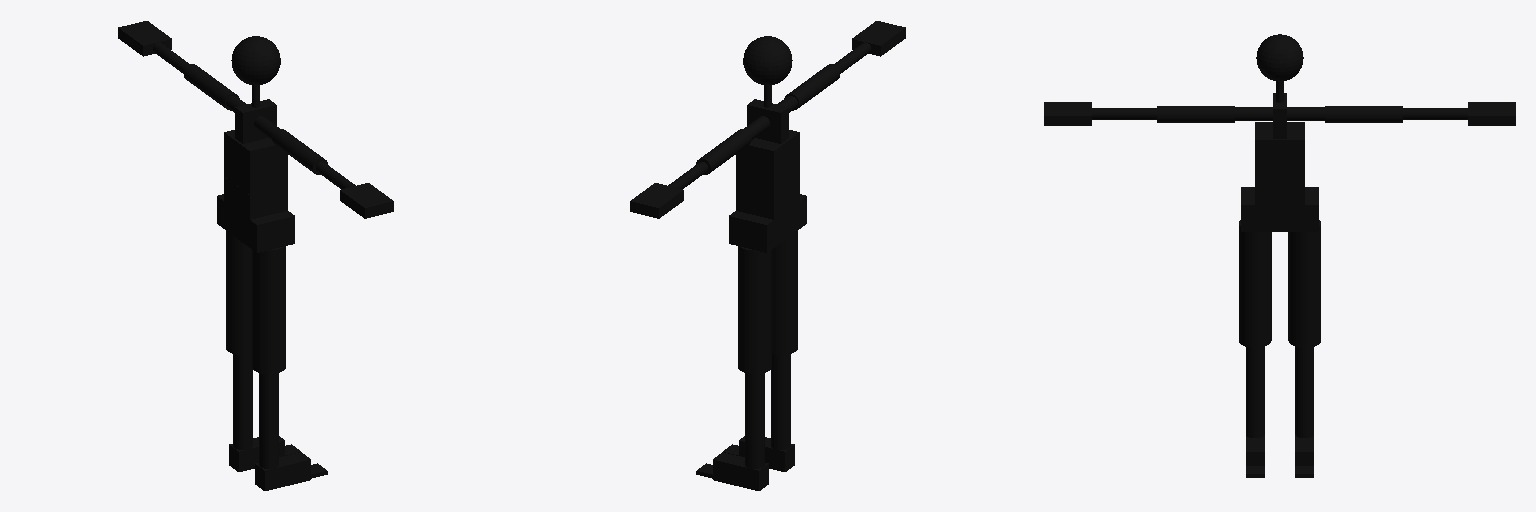
--- What the picture shows (computed from the rendered views, not written in the file) ---
The picture shows the robot from 3 angles, left to right: view 1: azimuth 30°, elevation 25°; view 2: azimuth 150°, elevation 25°; view 3: azimuth 270°, elevation 25°; orthographic projection.
Model XSensStyleModel_template with 51 links and 50 joints (48 revolute, 2 fixed), rooted at Pelvis, posed all joints at 0.
Links seen in each view (by area): view 1: RightUpperLeg, LeftUpperLeg, Pelvis, Head, RightLowerLeg, LeftLowerLeg, T12, L5, RightFoot, L3, RightHand, T8 (+4 smaller); view 2: LeftUpperLeg, RightUpperLeg, Pelvis, Head, LeftLowerLeg, RightLowerLeg, T12, L5, LeftFoot, L3, LeftHand, T8 (+4 smaller); view 3: RightUpperLeg, LeftUpperLeg, Pelvis, Head, T12, RightLowerLeg, LeftLowerLeg, RightUpperArm, LeftUpperArm, RightHand, LeftHand, L5 (+8 smaller).
Boxes of the visible links, x1,y1,x2,y2 form: RightUpperLeg: [252, 246, 285, 373]; LeftUpperLeg: [226, 231, 251, 354]; Pelvis: [217, 194, 294, 252]; Head: [231, 36, 280, 85]; RightLowerLeg: [259, 373, 278, 468]; LeftLowerLeg: [233, 354, 252, 449]; T12: [224, 130, 287, 172]; L5: [224, 177, 287, 219]; RightFoot: [255, 452, 310, 490]; L3: [224, 155, 287, 194]; RightHand: [340, 183, 393, 218]; T8: [235, 99, 276, 143]; LeftUpperLeg: [738, 246, 771, 373]; RightUpperLeg: [772, 231, 797, 354]; Pelvis: [729, 194, 806, 252]; Head: [743, 36, 792, 85]; LeftLowerLeg: [745, 373, 764, 468]; RightLowerLeg: [771, 354, 790, 449]; T12: [736, 130, 799, 172]; L5: [736, 177, 799, 219]; LeftFoot: [713, 452, 768, 490]; L3: [736, 155, 799, 194]; LeftHand: [630, 183, 683, 218]; T8: [747, 99, 788, 143]; RightUpperLeg: [1239, 220, 1271, 347]; LeftUpperLeg: [1288, 220, 1320, 347]; Pelvis: [1241, 187, 1318, 231]; Head: [1256, 34, 1303, 81]; T12: [1255, 122, 1304, 160]; RightLowerLeg: [1246, 347, 1264, 437]; LeftLowerLeg: [1295, 347, 1313, 437]; RightUpperArm: [1157, 106, 1234, 122]; LeftUpperArm: [1325, 106, 1402, 122]; RightHand: [1044, 102, 1091, 125]; LeftHand: [1468, 102, 1515, 125]; L5: [1255, 182, 1304, 204].
Size in the robot's own frame: 0.2981 by 1.7 by 1.67 metres.
Geometry: primitives only (box / cylinder / sphere), no mesh files.

robot.urdf — XSensStyleModel_template:
<!--URDF MODEL 48 DoFs-->

<robot name="XSensStyleModel_template">

<material name="color">
    <color rgba="0.1 0.1 0.1 1"/>
</material>

<!--To open this model with Gazebo replace the null masses, inertias and dimensions of the 'fake links f1 and f2'-->
    <!--LINKS-->
	<!--Link base (1)-->
	<link name="Pelvis">
        <inertial>
            <mass value="4.416"/>
			<!--COM origin wrt pHipOrigin-->
            <origin xyz="0           0    0.054579" rpy="0 0 0" />
            <inertia ixx="0.032646" iyy="0.012663" izz="0.036997" ixy="0" ixz="0" iyz="0"/>
        </inertial>

        <visual>
			<!--box origin wrt pHipOrigin-->
            <origin xyz="0           0    0.054579" rpy="0 0 0" />
            <geometry>
                <box size="0.15204     0.27824     0.10627"/>
            </geometry>
            <material name="color"/>
        </visual>

        <collision>
			<!--box origin wrt pHipOrigin-->
            <origin xyz="0           0    0.054579" rpy="0 0 0" />
            <geometry>
                <box size="0.15204     0.27824     0.10627"/>
            </geometry>
        </collision>

    </link>
    <!--Chain from (2) to (7)-->
	<link name="L5_f1">
        <inertial>
            <mass value="0"/>
            <origin xyz="0 0 0" rpy="0 0 0" />
            <inertia ixx="0" iyy="0" izz="0" ixy="0" ixz="0" iyz="0"/>
        </inertial>
    </link>
	<link name="L5">
        <inertial>
            <mass value="5.6304"/>
			<!--COM origin wrt jL5S1-->
            <origin xyz="0           0    0.046545" rpy="0 0 0" />
            <inertia ixx="0.019207" iyy="0.014912" izz="0.025988" ixy="0" ixz="0" iyz="0"/>
        </inertial>

        <visual>
			<!--box origin origin wrt jL5S1-->
            <origin xyz="0           0    0.046545" rpy="0 0 0" />
            <geometry>
                <box size="0.15204     0.17964     0.09309"/>
            </geometry>
            <material name="color"/>
        </visual>

        <collision>
			<!--box origin origin wrt jL5S1-->
            <origin xyz="0           0    0.046545" rpy="0 0 0" />
            <geometry>
                <box size="0.15204     0.17964     0.09309"/>
            </geometry>
        </collision>
    </link>
	<link name="L3_f1">
        <inertial>
            <mass value="0"/>
            <origin xyz="0 0 0" rpy="0 0 0" />
            <inertia ixx="0" iyy="0" izz="0" ixy="0" ixz="0" iyz="0"/>
        </inertial>
    </link>
	<link name="L3">
        <inertial>
            <mass value="5.6304"/>
			<!--COM origin wrt jL4L3-->
            <origin xyz="0           0    0.042046" rpy="0 0 0" />
            <inertia ixx="0.018459" iyy="0.014164" izz="0.025988" ixy="0" ixz="0" iyz="0"/>
        </inertial>

        <visual>
			<!--box origin origin wrt jL4L3-->
            <origin xyz="0           0    0.042046" rpy="0 0 0" />
            <geometry>
                <box size="0.15204     0.17964    0.084092"/>
            </geometry>
            <material name="color"/>
        </visual>

        <collision>
			<!--box origin origin wrt jL4L3-->
            <origin xyz="0           0    0.042046" rpy="0 0 0" />
            <geometry>
                <box size="0.15204     0.17964    0.084092"/>
            </geometry>
        </collision>
    </link>
	<link name="T12_f1">
        <inertial>
            <mass value="0"/>
            <origin xyz="0 0 0" rpy="0 0 0" />
            <inertia ixx="0" iyy="0" izz="0" ixy="0" ixz="0" iyz="0"/>
        </inertial>
    </link>
	<link name="T12">
        <inertial>
            <mass value="5.6304"/>
			<!--COM origin wrt jL1T12-->
            <origin xyz="0           0    0.042046" rpy="0 0 0" />
            <inertia ixx="0.018459" iyy="0.014164" izz="0.025988" ixy="0" ixz="0" iyz="0"/>
        </inertial>

        <visual>
			<!--box origin origin wrt jL1T12-->
            <origin xyz="0           0    0.042046" rpy="0 0 0" />
            <geometry>
                <box size="0.15204     0.17964    0.084092"/>
            </geometry>
            <material name="color"/>
        </visual>

        <collision>
			<!--box origin origin wrt jL1T12-->
            <origin xyz="0           0    0.042046" rpy="0 0 0" />
            <geometry>
                <box size="0.15204     0.17964    0.084092"/>
            </geometry>
        </collision>
    </link>
	<link name="T8_f1">
        <inertial>
            <mass value="0"/>
            <origin xyz="0 0 0" rpy="0 0 0" />
            <inertia ixx="0" iyy="0" izz="0" ixy="0" ixz="0" iyz="0"/>
        </inertial>
    </link>
	<link name="T8_f2">
        <inertial>
            <mass value="0"/>
            <origin xyz="0 0 0" rpy="0 0 0" />
            <inertia ixx="0" iyy="0" izz="0" ixy="0" ixz="0" iyz="0"/>
        </inertial>
    </link>
	<link name="T8">
        <inertial>
            <mass value="2.208"/>
			<!--COM origin wrt jT9T8-->
            <origin xyz="0           0    0.059077" rpy="0 0 0" />
            <inertia ixx="0.0031087" iyy="0.0059088" izz="0.00388" ixy="0" ixz="0" iyz="0"/>
        </inertial>

        <visual>
			<!--box origin wrt jT9T8-->
            <origin xyz="0           0    0.059077" rpy="0 0 0" />
            <geometry>
                <box size="0.13473    0.054172     0.11815"/>
            </geometry>
            <material name="color"/>
        </visual>

        <collision>
			<!--box origin wrt jT9T8-->
            <origin xyz="0           0    0.059077" rpy="0 0 0" />
            <geometry>
                <box size="0.13473    0.054172     0.11815"/>
            </geometry>
        </collision>

    </link>
	<link name="Neck_f1">
        <inertial>
            <mass value="0"/>
            <origin xyz="0 0 0" rpy="0 0 0" />
            <inertia ixx="0" iyy="0" izz="0" ixy="0" ixz="0" iyz="0"/>
        </inertial>
    </link>
	<link name="Neck_f2">
        <inertial>
            <mass value="0"/>
            <origin xyz="0 0 0" rpy="0 0 0" />
            <inertia ixx="0" iyy="0" izz="0" ixy="0" ixz="0" iyz="0"/>
        </inertial>
    </link>
	<link name="Neck">
        <inertial>
            <mass value="0.6624"/>
			<!--COM origin wrt jT1C7-->
            <origin xyz="0           0    0.043276" rpy="0 0 0" />
            <inertia ixx="0.00054354" iyy="0.00054354" izz="0.00026007" ixy="0" ixz="0" iyz="0"/>
        </inertial>

        <visual>
			<!--box origin wrt jT1C7-->
            <origin xyz="0           0    0.043276" rpy="0 0 0" />
            <geometry>
		<cylinder length="0.086551" radius="0.014011"/>
            </geometry>
            <material name="color"/>
        </visual>

        <collision>
			<!--box origin wrt jT1C7-->
            <origin xyz="0           0    0.043276" rpy="0 0 0" />
            <geometry>
                <cylinder length="0.086551" radius="0.014011"/>
            </geometry>
        </collision>
    </link>
	<link name="Head_f1">
        <inertial>
            <mass value="0"/>
            <origin xyz="0 0 0" rpy="0 0 0" />
            <inertia ixx="0" iyy="0" izz="0" ixy="0" ixz="0" iyz="0"/>
        </inertial>
    </link>
	<link name="Head">
        <inertial>
            <mass value="1.9872"/>
			<!--COM origin wrt jC1Head-->
            <origin xyz="0           0    0.085351" rpy="0 0 0" />
            <inertia ixx="0.0057906" iyy="0.0057906" izz="0.0057906" ixy="0" ixz="0" iyz="0"/>
        </inertial>

        <visual>
			<!--boc origin wrt jC1Head-->
            <origin xyz="0           0    0.085351" rpy="0 0 0" />
            <geometry>
                <sphere radius="0.085351"/>
            </geometry>
            <material name="color"/>
        </visual>

        <collision>
			<!--box origin wrt jC1Head-->
            <origin xyz="0           0    0.085351" rpy="0 0 0" />
            <geometry>
                <sphere radius="0.085351"/>
            </geometry>
        </collision>

    </link>
	<!--Chain from (8) to (11)-->
	<link name="RightShoulder">
        <inertial>
            <mass value="1.7112"/>
			<!--COM origin wrt jRightC7Shoulder-->
            <origin xyz="0   -0.068449           0" rpy="0 0 0" />
            <inertia ixx="0.0029297" iyy="0.00051445" izz="0.0029297" ixy="0" ixz="0" iyz="0"/>
        </inertial>

        <visual>
			<!--box origin wrt jRightC7Shoulder. RPY rotated of pi/2.-->
            <origin xyz="0   -0.068449           0" rpy="1.5708 0 0" />
            <geometry>
                <cylinder length="0.1369" radius="0.024521"/>
            </geometry>
            <material name="color"/>
        </visual>

        <collision>
			<!--box origin wrt jRightC7Shoulder. RPY rotated of pi/2.-->
            <origin xyz="0   -0.068449           0" rpy="1.5708 0 0" />
            <geometry>
                <cylinder length="0.1369" radius="0.024521"/>
            </geometry>
        </collision>

    </link>
	<link name="RightUpperArm_f1">
        <inertial>
            <mass value="0"/>
            <origin xyz="0 0 0" rpy="0 0 0" />
            <inertia ixx="0" iyy="0" izz="0" ixy="0" ixz="0" iyz="0"/>
        </inertial>
    </link>
	<link name="RightUpperArm_f2">
        <inertial>
            <mass value="0"/>
            <origin xyz="0 0 0" rpy="0 0 0" />
            <inertia ixx="0" iyy="0" izz="0" ixy="0" ixz="0" iyz="0"/>
        </inertial>
    </link>
    <link name="RightUpperArm">
        <inertial>
            <mass value="1.656"/>
			<!--COM origin wrt jRightShoulder-->
            <origin xyz="0    -0.14097           0" rpy="0 0 0" />
            <inertia ixx="0.011359" iyy="0.00077855" izz="0.011359" ixy="0" ixz="0" iyz="0"/>
        </inertial>

        <visual>
			<!--box origin wrt jRightShoulder. RPY rotated of pi/2.-->
            <origin xyz="0    -0.14097           0" rpy="1.5708 0 0" />
            <geometry>
                <cylinder length="0.28194" radius="0.030664"/>
            </geometry>
            <material name="color"/>
        </visual>

        <collision>
			<!--box origin wrt jRightShoulder. RPY rotated of pi/2.-->
            <origin xyz="0    -0.14097           0" rpy="1.5708 0 0" />
            <geometry>
                <cylinder length="0.28194" radius="0.030664"/>
            </geometry>
        </collision>

    </link>
	<link name="RightForeArm_f1">
        <inertial>
            <mass value="0"/>
            <origin xyz="0 0 0" rpy="0 0 0" />
            <inertia ixx="0" iyy="0" izz="0" ixy="0" ixz="0" iyz="0"/>
        </inertial>
    </link>
	<link name="RightForeArm">
        <inertial>
            <mass value="1.104"/>
			<!--COM origin wrt jRightElbow-->
            <origin xyz="0    -0.11576           0" rpy="0 0 0" />
            <inertia ixx="0.0050467" iyy="0.00023068" izz="0.0050467" ixy="0" ixz="0" iyz="0"/>
        </inertial>

        <visual>
			<!--box origin wrt jRightElbow. RPY rotated of pi/2.-->
            <origin xyz="0    -0.11576           0" rpy="1.5708 0 0" />
            <geometry>
                <cylinder length="0.23152" radius="0.020443"/>
            </geometry>
            <material name="color"/>
        </visual>

        <collision>
			<!--box origin wrt jRightElbow. RPY rotated of pi/2.-->
            <origin xyz="0    -0.11576           0" rpy="1.5708 0 0" />
            <geometry>
                <cylinder length="0.23152" radius="0.020443"/>
            </geometry>
        </collision>

    </link>
	<link name="RightHand_f1">
        <inertial>
            <mass value="0"/>
            <origin xyz="0 0 0" rpy="0 0 0" />
            <inertia ixx="0" iyy="0" izz="0" ixy="0" ixz="0" iyz="0"/>
        </inertial>
    </link>
	<link name="RightHand">
        <inertial>
            <mass value="0.3312"/>
			<!--COM origin wrt jRightWrist-->
            <origin xyz="0   -0.086727           0" rpy="0 0 0" />
            <inertia ixx="0.00087653" iyy="0.0004152" izz="0.0011995" ixy="0" ixz="0" iyz="0"/>
        </inertial>

        <visual>
			<!--box origin wrt jRightWrist-->
            <origin xyz="0   -0.086727           0" rpy="0 0 0" />
            <geometry>
                <box size="0.11564     0.17345    0.040885"/>
            </geometry>
            <material name="color"/>
        </visual>

        <collision>
			<!--box origin wrt jRightWrist-->
            <origin xyz="0   -0.086727           0" rpy="0 0 0" />
            <geometry>
                <box size="0.11564     0.17345    0.040885"/>
            </geometry>
        </collision>

    </link>
    <link name="RightHandCOM">
        <inertial>
            <mass value="0.00001"/>
            <origin xyz="0 0 0" rpy="0 0 0" />
            <inertia ixx="0" iyy="0" izz="0" ixy="0" ixz="0" iyz="0"/>
        </inertial>
        <visual>
            <!--box origin wrt jRightWrist-->
            <origin xyz="0   0           0" rpy="0 0 0" />
            <geometry>
                <box size="0     0    0"/>
            </geometry>
            <material name="color"/>
        </visual>
    </link>
	<!--Chain from (12) to (15)-->
	<link name="LeftShoulder">
        <inertial>
            <mass value="1.7112"/>
			<!--COM origin wrt jLeftC7Shoulder-->
            <origin xyz="0    0.068449           0" rpy="0 0 0" />
            <inertia ixx="0.0029297" iyy="0.00051445" izz="0.0029297" ixy="0" ixz="0" iyz="0"/>
        </inertial>

        <visual>
			<!--box origin wrt jLeftC7Shoulder. RPY rotated of pi/2.-->
            <origin xyz="0    0.068449           0" rpy="1.5708 0 0" />
            <geometry>
                <cylinder length="0.1369" radius="0.024521"/>
            </geometry>
            <material name="color"/>
        </visual>

        <collision>
			<!--box origin wrt jLeftC7Shoulder. RPY rotated of pi/2.-->
            <origin xyz="0    0.068449           0" rpy="1.5708 0 0" />
            <geometry>
                <cylinder length="0.1369" radius="0.024521"/>
            </geometry>
        </collision>

    </link>
	<link name="LeftUpperArm_f1">
        <inertial>
            <mass value="0"/>
            <origin xyz="0 0 0" rpy="0 0 0" />
            <inertia ixx="0" iyy="0" izz="0" ixy="0" ixz="0" iyz="0"/>
        </inertial>
    </link>
	<link name="LeftUpperArm_f2">
        <inertial>
            <mass value="0"/>
            <origin xyz="0 0 0" rpy="0 0 0" />
            <inertia ixx="0" iyy="0" izz="0" ixy="0" ixz="0" iyz="0"/>
        </inertial>
    </link>
	<link name="LeftUpperArm">
        <inertial>
            <mass value="1.656"/>
			<!--COM origin wrt jLeftShoulder-->
            <origin xyz="0     0.14097           0" rpy="0 0 0" />
            <inertia ixx="0.011359" iyy="0.00077855" izz="0.011359" ixy="0" ixz="0" iyz="0"/>
        </inertial>

        <visual>
			<!--box origin wrt jLeftShoulder. RPY rotated of pi/2.-->
            <origin xyz="0     0.14097           0" rpy="1.5708 0 0" />
            <geometry>
                <cylinder length="0.28194" radius="0.030664"/>
            </geometry>
            <material name="color"/>
        </visual>

        <collision>
			<!--box origin wrt jLeftShoulder. RPY rotated of pi/2.-->
            <origin xyz="0     0.14097           0" rpy="1.5708 0 0" />
            <geometry>
                <cylinder length="0.28194" radius="0.030664"/>
            </geometry>
        </collision>

    </link>
	<link name="LeftForeArm_f1">
        <inertial>
            <mass value="0"/>
            <origin xyz="0 0 0" rpy="0 0 0" />
            <inertia ixx="0" iyy="0" izz="0" ixy="0" ixz="0" iyz="0"/>
        </inertial>
    </link>
	<link name="LeftForeArm">
        <inertial>
            <mass value="1.104"/>
			<!--COM origin wrt jLeftElbow-->
            <origin xyz="0     0.11576           0" rpy="0 0 0" />
            <inertia ixx="0.0050467" iyy="0.00023068" izz="0.0050467" ixy="0" ixz="0" iyz="0"/>
        </inertial>

        <visual>
			<!--box origin wrt jLeftElbow. RPY rotated of pi/2.-->
            <origin xyz="0     0.11576           0" rpy="1.5708 0 0" />
            <geometry>
                <cylinder length="0.23152" radius="0.020443"/>
            </geometry>
            <material name="color"/>
        </visual>

        <collision>
			<!--box origin wrt jLeftElbow. RPY rotated of pi/2.-->
            <origin xyz="0     0.11576           0" rpy="1.5708 0 0" />
            <geometry>
                <cylinder length="0.23152" radius="0.020443"/>
            </geometry>
        </collision>

    </link>
	<link name="LeftHand_f1">
        <inertial>
            <mass value="0"/>
            <origin xyz="0 0 0" rpy="0 0 0" />
            <inertia ixx="0" iyy="0" izz="0" ixy="0" ixz="0" iyz="0"/>
        </inertial>
    </link>
	<link name="LeftHand">
        <inertial>
            <mass value="0.3312"/>
			<!--COM origin wrt jLeftWrist-->
            <origin xyz="0    0.086727           0" rpy="0 0 0" />
            <inertia ixx="0.00087653" iyy="0.0004152" izz="0.0011995" ixy="0" ixz="0" iyz="0"/>
        </inertial>

        <visual>
			<!--COM origin wrt jLeftWrist-->
            <origin xyz="0    0.086727           0" rpy="0 0 0" />
            <geometry>
                <box size="0.11564     0.17345    0.040885"/>
            </geometry>
            <material name="color"/>
        </visual>

        <collision>
			<!--COM origin wrt jLeftWrist-->
            <origin xyz="0    0.086727           0" rpy="0 0 0" />
            <geometry>
                <box size="0.11564     0.17345    0.040885"/>
            </geometry>
        </collision>

    </link>
    <link name="LeftHandCOM">
        <inertial>
            <mass value="0.00001"/>
            <origin xyz="0 0 0" rpy="0 0 0" />
            <inertia ixx="0" iyy="0" izz="0" ixy="0" ixz="0" iyz="0"/>
        </inertial>
        <visual>
            <!--COM origin wrt jLeftWrist-->
            <origin xyz="0    0           0" rpy="0 0 0" />
            <geometry>
                <box size="0     0    0"/>
            </geometry>
            <material name="color"/>
        </visual>
    </link>
	<!--Chain from (16) to (19)-->
	<link name="RightUpperLeg_f1">
        <inertial>
            <mass value="0"/>
            <origin xyz="0 0 0" rpy="0 0 0" />
            <inertia ixx="0" iyy="0" izz="0" ixy="0" ixz="0" iyz="0"/>
        </inertial>
    </link>
	<link name="RightUpperLeg_f2">
        <inertial>
            <mass value="0"/>
            <origin xyz="0 0 0" rpy="0 0 0" />
            <inertia ixx="0" iyy="0" izz="0" ixy="0" ixz="0" iyz="0"/>
        </inertial>
    </link>
    <link name="RightUpperLeg">
        <inertial>
            <mass value="6.9"/>
			<!--COM origin wrt jRightHip-->
            <origin xyz="0           0    -0.23539" rpy="0 0 0" />
            <inertia ixx="0.13349" iyy="0.13349" izz="0.012102" ixy="0" ixz="0" iyz="0"/>
        </inertial>

        <visual>
			<!--box origin wrt jRightHip-->
            <origin xyz="0           0    -0.23539" rpy="0 0 0" />
            <geometry>
                <cylinder length="0.47078" radius="0.059228"/>
            </geometry>
            <material name="color"/>
        </visual>

        <collision>
			<!--box origin wrt jRightHip-->
            <origin xyz="0           0    -0.23539" rpy="0 0 0" />
            <geometry>
                <cylinder length="0.47078" radius="0.059228"/>
            </geometry>
        </collision>

    </link>
	<link name="RightLowerLeg_f1">
        <inertial>
            <mass value="0"/>
            <origin xyz="0 0 0" rpy="0 0 0" />
            <inertia ixx="0" iyy="0" izz="0" ixy="0" ixz="0" iyz="0"/>
        </inertial>
    </link>
    <link name="RightLowerLeg">
        <inertial>
            <mass value="2.0148"/>
			<!--COM origin wrt jRightKnee-->
            <origin xyz="0           0    -0.18629" rpy="0 0 0" />
            <inertia ixx="0.023906" iyy="0.023906" izz="0.0012007" ixy="0" ixz="0" iyz="0"/>
        </inertial>

        <visual>
			<!--box origin wrt jRightKnee-->
            <origin xyz="0           0    -0.18629" rpy="0 0 0" />
            <geometry>
                <cylinder length="0.37257" radius="0.034524"/>
            </geometry>
            <material name="color"/>
        </visual>

        <collision>
			<!--box origin wrt jRightKnee-->
            <origin xyz="0           0    -0.18629" rpy="0 0 0" />
            <geometry>
                <cylinder length="0.37257" radius="0.034524"/>
            </geometry>
        </collision>

    </link>
	<link name="RightFoot_f1">
        <inertial>
            <mass value="0"/>
            <origin xyz="0 0 0" rpy="0 0 0" />
            <inertia ixx="0" iyy="0" izz="0" ixy="0" ixz="0" iyz="0"/>
        </inertial>
    </link>
	<link name="RightFoot_f2">
        <inertial>
            <mass value="0"/>
            <origin xyz="0 0 0" rpy="0 0 0" />
            <inertia ixx="0" iyy="0" izz="0" ixy="0" ixz="0" iyz="0"/>
        </inertial>
    </link>
    <link name="RightFoot">
        <inertial>
            <mass value="0.7176"/>
			<!--COM origin wrt jRightAnkle-->
            <origin xyz="0.055949           0   -0.039369" rpy="0 0 0" />
            <inertia ixx="0.00065584" iyy="0.0024234" izz="0.0023377" ixy="0" ixz="0" iyz="0"/>
        </inertial>

        <visual>
			<!--box origin wrt jRightAnkle-->
	    	<origin xyz="0.055949           0   -0.039369" rpy="0 0 0" />
            <geometry>
                <box size="0.18527    0.069048    0.078737"/>
            </geometry>
            <material name="color"/>
        </visual>

        <collision>
			<!--box origin wrt jRightAnkle-->
		    <origin xyz="0.055949           0   -0.039369" rpy="0 0 0" />
	            <geometry>
	                <box size="0.18527    0.069048    0.078737"/>
	            </geometry>
        </collision>

    </link>
    <link name="RightToe">
        <inertial>
            <mass value="0.0828"/>
			<!--COM origin wrt jRightBallFoot-->
            <origin xyz="0.032364           0           0" rpy="0 0 0" />
            <inertia ixx="3.4446e-05" iyy="3.046e-05" izz="6.1807e-05" ixy="0" ixz="0" iyz="0"/>
        </inertial>

        <visual>
			<!--box origin wrt jRightBallFoot-->
            <origin xyz="0.032364           0           0" rpy="0 0 0" />
            <geometry>
                <box size="0.064729    0.069048    0.014986"/>
            </geometry>
            <material name="color"/>
        </visual>

        <collision>
			<!--box origin wrt jRightBallFoot-->
            <origin xyz="0.032364           0           0" rpy="0 0 0" />
            <geometry>
                <box size="0.064729    0.069048    0.014986"/>
            </geometry>
        </collision>
    </link>
	<!--Chain from (20) to (23)-->
	<link name="LeftUpperLeg_f1">
        <inertial>
            <mass value="0"/>
            <origin xyz="0 0 0" rpy="0 0 0" />
            <inertia ixx="0" iyy="0" izz="0" ixy="0" ixz="0" iyz="0"/>
        </inertial>
    </link>
	<link name="LeftUpperLeg_f2">
        <inertial>
            <mass value="0"/>
            <origin xyz="0 0 0" rpy="0 0 0" />
            <inertia ixx="0" iyy="0" izz="0" ixy="0" ixz="0" iyz="0"/>
        </inertial>
    </link>
    <link name="LeftUpperLeg">
        <inertial>
            <mass value="6.9"/>
			<!--COM origin wrt jLeftHip-->
            <origin xyz="0           0    -0.23539" rpy="0 0 0" />
            <inertia ixx="0.13349" iyy="0.13349" izz="0.012102" ixy="0" ixz="0" iyz="0"/>
        </inertial>

        <visual>
			<!--box origin wrt jLeftHip-->
            <origin xyz="0           0    -0.23539" rpy="0 0 0" />
            <geometry>
                <cylinder length="0.47078" radius="0.059228"/>
            </geometry>
            <material name="color"/>
        </visual>

        <collision>
			<!--box origin wrt jLeftHip-->
            <origin xyz="0           0    -0.23539" rpy="0 0 0" />
            <geometry>
                <cylinder length="0.47078" radius="0.059228"/>
            </geometry>
        </collision>

    </link>
	<link name="LeftLowerLeg_f1">
        <inertial>
            <mass value="0"/>
            <origin xyz="0 0 0" rpy="0 0 0" />
            <inertia ixx="0" iyy="0" izz="0" ixy="0" ixz="0" iyz="0"/>
        </inertial>
    </link>
	<link name="LeftLowerLeg">
        <inertial>
            <mass value="2.0148"/>
			<!--COM origin wrt jLeftKnee-->
            <origin xyz="0           0    -0.18629" rpy="0 0 0" />
            <inertia ixx="0.023906" iyy="0.023906" izz="0.0012007" ixy="0" ixz="0" iyz="0"/>
        </inertial>

        <visual>
			<!--box origin wrt jLeftKnee-->
            <origin xyz="0           0    -0.18629" rpy="0 0 0" />
            <geometry>
		<cylinder length="0.37257" radius="0.034524"/>
            </geometry>
            <material name="color"/>
        </visual>

        <collision>
			<!--box origin wrt jLeftKnee-->
            <origin xyz="0           0    -0.18629" rpy="0 0 0" />
            <geometry>
		<cylinder length="0.37257" radius="0.034524"/>
            </geometry>
        </collision>

    </link>
	<link name="LeftFoot_f1">
        <inertial>
            <mass value="0"/>
            <origin xyz="0 0 0" rpy="0 0 0" />
            <inertia ixx="0" iyy="0" izz="0" ixy="0" ixz="0" iyz="0"/>
        </inertial>
    </link>
	<link name="LeftFoot_f2">
        <inertial>
            <mass value="0"/>
            <origin xyz="0 0 0" rpy="0 0 0" />
            <inertia ixx="0" iyy="0" izz="0" ixy="0" ixz="0" iyz="0"/>
        </inertial>
    </link>
    <link name="LeftFoot">
        <inertial>
            <mass value="0.7176"/>
			<!--COM origin wrt jLeftAnkle-->
            <origin xyz="0.055949           0   -0.039369" rpy="0 0 0" />
            <inertia ixx="0.00065584" iyy="0.0024234" izz="0.0023377" ixy="0" ixz="0" iyz="0"/>
        </inertial>

        <visual>
			<!--box origin wrt jLeftAnkle-->
	   	 	<origin xyz="0.055949           0   -0.039369" rpy="0 0 0" />
            <geometry>
                <box size="0.18527    0.069048    0.078737"/>
            </geometry>
            <material name="color"/>
        </visual>

        <collision>
			<!--box origin wrt jLeftAnkle-->
		    <origin xyz="0.055949           0   -0.039369" rpy="0 0 0" />
	            <geometry>
	                <box size="0.18527    0.069048    0.078737"/>
	            </geometry>
        </collision>

    </link>
	<link name="LeftToe">
        <inertial>
            <mass value="0.0828"/>
			<!--COM origin wrt jLeftBallFoot-->
            <origin xyz="0.032364           0           0" rpy="0 0 0" />
            <inertia ixx="3.4446e-05" iyy="3.046e-05" izz="6.1807e-05" ixy="0" ixz="0" iyz="0"/>
        </inertial>

        <visual>
			<!--box origin wrt jLeftBallFoot-->
            <origin xyz="0.032364           0           0" rpy="0 0 0" />
            <geometry>
                <box size="0.064729    0.069048    0.014986"/>
            </geometry>
            <material name="color"/>
        </visual>

        <collision>
			<!--box origin wrt jLeftBallFoot-->
            <origin xyz="0.032364           0           0" rpy="0 0 0" />
            <geometry>
                <box size="0.064729    0.069048    0.014986"/>
            </geometry>
        </collision>
    </link>


	<!--JOINTS-->
	<!--Chain from (2) to (7)-->
	<joint name="jL5S1_rotx" type="revolute">
        <origin xyz="-0.000294           0     0.10772" rpy="0 0 0"/>
        <parent link="Pelvis"/>
        <child link="L5_f1"/>
        <dynamics damping="0.1" friction="0.0"/>
        <limit effort="30" velocity="1.0" lower="-10.0" upper="10.0" />
        <axis xyz="1 0 0" />
    </joint>
	<joint name="jL5S1_roty" type="revolute">
        <origin xyz="0 0 0" rpy="0 0 0"/>
        <parent link="L5_f1"/>
        <child link="L5"/>
        <dynamics damping="0.1" friction="0.0"/>
        <limit effort="30" velocity="1.0" lower="-10.0" upper="10.0" />
        <axis xyz="0 1 0" />
    </joint>
	<joint name="jL4L3_rotx" type="revolute">
        <origin xyz="0.000535           0     0.09309" rpy="0 0 0"/>
        <parent link="L5"/>
        <child link="L3_f1"/>
        <dynamics damping="0.1" friction="0.0"/>
        <limit effort="30" velocity="1.0" lower="-10.0" upper="10.0" />
        <axis xyz="1 0 0" />
    </joint>
	<joint name="jL4L3_roty" type="revolute">
        <origin xyz="0 0 0" rpy="0 0 0"/>
        <parent link="L3_f1"/>
        <child link="L3"/>
        <dynamics damping="0.1" friction="0.0"/>
        <limit effort="30" velocity="1.0" lower="-10.0" upper="10.0" />
        <axis xyz="0 1 0" />
    </joint>
	<joint name="jL1T12_rotx" type="revolute">
        <origin xyz="0           0    0.084092" rpy="0 0 0"/>
        <parent link="L3"/>
        <child link="T12_f1"/>
        <dynamics damping="0.1" friction="0.0"/>
        <limit effort="30" velocity="1.0" lower="-10.0" upper="10.0" />
        <axis xyz="1 0 0" />
    </joint>
	<joint name="jL1T12_roty" type="revolute">
        <origin xyz="0 0 0" rpy="0 0 0"/>
        <parent link="T12_f1"/>
        <child link="T12"/>
        <dynamics damping="0.1" friction="0.0"/>
        <limit effort="30" velocity="1.0" lower="-10.0" upper="10.0" />
        <axis xyz="0 1 0" />
    </joint>
	<joint name="jT9T8_rotx" type="revolute">
        <origin xyz="0           0    0.084092" rpy="0 0 0"/>
        <parent link="T12"/>
        <child link="T8_f1"/>
        <dynamics damping="0.1" friction="0.0"/>
        <limit effort="30" velocity="1.0" lower="-10.0" upper="10.0" />
        <axis xyz="1 0 0" />
    </joint>
	<joint name="jT9T8_roty" type="revolute">
        <origin xyz="0 0 0" rpy="0 0 0"/>
        <parent link="T8_f1"/>
        <child link="T8_f2"/>
        <dynamics damping="0.1" friction="0.0"/>
        <limit effort="30" velocity="1.0" lower="-10.0" upper="10.0" />
        <axis xyz="0 1 0" />
    </joint>
    <joint name="jT9T8_rotz" type="revolute">
        <origin xyz="0 0 0" rpy="0 0 0"/>
        <parent link="T8_f2"/>
        <child link="T8"/>
        <dynamics damping="0.1" friction="0.0"/>
        <limit effort="30" velocity="1.0" lower="-10.0" upper="10.0" />
        <axis xyz="0 0 1" />
    </joint>
	<joint name="jT1C7_rotx" type="revolute">
        <origin xyz="0           0     0.11815" rpy="0 0 0"/>
        <parent link="T8"/>
        <child link="Neck_f1"/>
        <dynamics damping="0.1" friction="0.0"/>
        <limit effort="30" velocity="1.0" lower="-10.0" upper="10.0" />
        <axis xyz="1 0 0" />
    </joint>
	<joint name="jT1C7_roty" type="revolute">
        <origin xyz="0 0 0" rpy="0 0 0"/>
        <parent link="Neck_f1"/>
        <child link="Neck_f2"/>
        <dynamics damping="0.1" friction="0.0"/>
        <limit effort="30" velocity="1.0" lower="-10.0" upper="10.0" />
        <axis xyz="0 1 0" />
    </joint>
    <joint name="jT1C7_rotz" type="revolute">
        <origin xyz="0 0 0" rpy="0 0 0"/>
        <parent link="Neck_f2"/>
        <child link="Neck"/>
        <dynamics damping="0.1" friction="0.0"/>
        <limit effort="30" velocity="1.0" lower="-10.0" upper="10.0" />
        <axis xyz="0 0 1" />
    </joint>
	<joint name="jC1Head_rotx" type="revolute">
        <origin xyz="0.00062           0    0.086551" rpy="0 0 0"/>
        <parent link="Neck"/>
        <child link="Head_f1"/>
        <dynamics damping="0.1" friction="0.0"/>
        <limit effort="30" velocity="1.0" lower="-10.0" upper="10.0" />
        <axis xyz="1 0 0" />
    </joint>
	<joint name="jC1Head_roty" type="revolute">
        <origin xyz="0 0 0" rpy="0 0 0"/>
        <parent link="Head_f1"/>
        <child link="Head"/>
        <dynamics damping="0.1" friction="0.0"/>
        <limit effort="30" velocity="1.0" lower="-10.0" upper="10.0" />
        <axis xyz="0 1 0" />
    </joint>
	<!--Chain from (8) to (11)-->
	<joint name="jRightC7Shoulder_rotx" type="revolute">
        <origin xyz="0   -0.027086    0.066263" rpy="0 0 0"/>
        <parent link="T8"/>
        <child link="RightShoulder"/>
        <dynamics damping="0.1" friction="0.0"/>
        <limit effort="30" velocity="1.0" lower="-10.0" upper="10.0" />
        <axis xyz="1 0 0" />
    </joint>
	<joint name="jRightShoulder_rotx" type="revolute">
        <origin xyz="0     -0.1369           0" rpy="0 0 0"/>
        <parent link="RightShoulder"/>
        <child link="RightUpperArm_f1"/>
        <dynamics damping="0.1" friction="0.0"/>
        <limit effort="30" velocity="1.0" lower="-10.0" upper="10.0" />
        <axis xyz="1 0 0" />
    </joint>
	<joint name="jRightShoulder_roty" type="revolute">
        <origin xyz="0 0 0" rpy="0 0 0"/>
        <parent link="RightUpperArm_f1"/>
        <child link="RightUpperArm_f2"/>
        <dynamics damping="0.1" friction="0.0"/>
        <limit effort="30" velocity="1.0" lower="-10.0" upper="10.0" />
        <axis xyz="0 1 0" />
    </joint>
    <joint name="jRightShoulder_rotz" type="revolute">
        <origin xyz="0 0 0" rpy="0 0 0"/>
        <parent link="RightUpperArm_f2"/>
        <child link="RightUpperArm"/>
        <dynamics damping="0.1" friction="0.0"/>
        <limit effort="30" velocity="1.0" lower="-10.0" upper="10.0" />
        <axis xyz="0 0 1" />
    </joint>
	<joint name="jRightElbow_roty" type="revolute">
        <origin xyz="0    -0.28194           0" rpy="0 0 0"/>
        <parent link="RightUpperArm"/>
        <child link="RightForeArm_f1"/>
        <dynamics damping="0.1" friction="0.0"/>
        <limit effort="30" velocity="1.0" lower="-10.0" upper="10.0" />
        <axis xyz="0 1 0" />
    </joint>
	<joint name="jRightElbow_rotz" type="revolute">
        <origin xyz="0 0 0" rpy="0 0 0"/>
        <parent link="RightForeArm_f1"/>
        <child link="RightForeArm"/>
        <dynamics damping="0.1" friction="0.0"/>
        <limit effort="30" velocity="1.0" lower="-10.0" upper="10.0" />
        <axis xyz="0 0 1" />
    </joint>
	<joint name="jRightWrist_rotx" type="revolute">
        <origin xyz="4.6e-05    -0.23152           0" rpy="0 0 0"/>
        <parent link="RightForeArm"/>
        <child link="RightHand_f1"/>
        <dynamics damping="0.1" friction="0.0"/>
        <limit effort="30" velocity="1.0" lower="-10.0" upper="10.0" />
        <axis xyz="1 0 0" />
    </joint>
	<joint name="jRightWrist_rotz" type="revolute">
        <origin xyz="0 0 0" rpy="0 0 0"/>
        <parent link="RightHand_f1"/>
        <child link="RightHand"/>
        <dynamics damping="0.1" friction="0.0"/>
        <limit effort="30" velocity="1.0" lower="-10.0" upper="10.0" />
        <axis xyz="0 0 1" />
    </joint>
    <joint name="jRightHandCOM" type="fixed">
        <origin xyz="0 -0.096206 0" rpy="0 0 0"/>
        <parent link="RightHand"/>
        <child link="RightHandCOM"/>
        <axis xyz="0 0 0" />
    </joint>
	<!--Chain from (12) to (15)-->
	<joint name="jLeftC7Shoulder_rotx" type="revolute">
        <origin xyz="0    0.027086    0.066263" rpy="0 0 0"/>
        <parent link="T8"/>
        <child link="LeftShoulder"/>
        <dynamics damping="0.1" friction="0.0"/>
        <limit effort="30" velocity="1.0" lower="-10.0" upper="10.0" />
        <axis xyz="1 0 0" />
    </joint>
	<joint name="jLeftShoulder_rotx" type="revolute">
        <origin xyz="0      0.1369           0" rpy="0 0 0"/>
        <parent link="LeftShoulder"/>
        <child link="LeftUpperArm_f1"/>
        <dynamics damping="0.1" friction="0.0"/>
        <limit effort="30" velocity="1.0" lower="-10.0" upper="10.0" />
        <axis xyz="1 0 0" />
    </joint>
	<joint name="jLeftShoulder_roty" type="revolute">
        <origin xyz="0 0 0" rpy="0 0 0"/>
        <parent link="LeftUpperArm_f1"/>
        <child link="LeftUpperArm_f2"/>
        <dynamics damping="0.1" friction="0.0"/>
        <limit effort="30" velocity="1.0" lower="-10.0" upper="10.0" />
        <axis xyz="0 1 0" />
    </joint>
    <joint name="jLeftShoulder_rotz" type="revolute">
        <origin xyz="0 0 0" rpy="0 0 0"/>
        <parent link="LeftUpperArm_f2"/>
        <child link="LeftUpperArm"/>
        <dynamics damping="0.1" friction="0.0"/>
        <limit effort="30" velocity="1.0" lower="-10.0" upper="10.0" />
        <axis xyz="0 0 1" />
    </joint>
    <joint name="jLeftElbow_roty" type="revolute">
        <origin xyz="0     0.28194           0" rpy="0 0 0"/>
        <parent link="LeftUpperArm"/>
        <child link="LeftForeArm_f1"/>
        <dynamics damping="0.1" friction="0.0"/>
        <limit effort="30" velocity="1.0" lower="-10.0" upper="10.0" />
        <axis xyz="0 1 0" />
    </joint>
    <joint name="jLeftElbow_rotz" type="revolute">
        <origin xyz="0 0 0" rpy="0 0 0"/>
        <parent link="LeftForeArm_f1"/>
        <child link="LeftForeArm"/>
        <dynamics damping="0.1" friction="0.0"/>
        <limit effort="30" velocity="1.0" lower="-10.0" upper="10.0" />
        <axis xyz="0 0 1" />
    </joint>
	<joint name="jLeftWrist_rotx" type="revolute">
        <origin xyz="4.6e-05     0.23152           0" rpy="0 0 0"/>
        <parent link="LeftForeArm"/>
        <child link="LeftHand_f1"/>
        <dynamics damping="0.1" friction="0.0"/>
        <limit effort="30" velocity="1.0" lower="-10.0" upper="10.0" />
        <axis xyz="1 0 0" />
    </joint>
	<joint name="jLeftWrist_rotz" type="revolute">
        <origin xyz="0 0 0" rpy="0 0 0"/>
        <parent link="LeftHand_f1"/>
        <child link="LeftHand"/>
        <dynamics damping="0.1" friction="0.0"/>
        <limit effort="30" velocity="1.0" lower="-10.0" upper="10.0" />
        <axis xyz="0 0 1" />
    </joint>
    <joint name="jLeftHandCOM" type="fixed">
        <origin xyz="0 0.096206 0" rpy="0 0 0"/>
        <parent link="LeftHand"/>
        <child link="LeftHandCOM"/>
        <axis xyz="0 0 0" />
    </joint>
	<!--Chain from (16) to (19)-->
	<joint name="jRightHip_rotx" type="revolute">
        <origin xyz="0.000147    -0.08982    0.001442" rpy="0 0 0"/>
        <parent link="Pelvis"/>
        <child link="RightUpperLeg_f1"/>
        <dynamics damping="0.1" friction="0.0"/>
        <limit effort="30" velocity="1.0" lower="-10.0" upper="10.0" />
        <axis xyz="1 0 0" />
    </joint>
	<joint name="jRightHip_roty" type="revolute">
        <origin xyz="0 0 0" rpy="0 0 0"/>
        <parent link="RightUpperLeg_f1"/>
        <child link="RightUpperLeg_f2"/>
        <dynamics damping="0.1" friction="0.0"/>
        <limit effort="30" velocity="1.0" lower="-10.0" upper="10.0" />
        <axis xyz="0 1 0" />
    </joint>
    <joint name="jRightHip_rotz" type="revolute">
        <origin xyz="0 0 0" rpy="0 0 0"/>
        <parent link="RightUpperLeg_f2"/>
        <child link="RightUpperLeg"/>
        <dynamics damping="0.1" friction="0.0"/>
        <limit effort="30" velocity="1.0" lower="-10.0" upper="10.0" />
        <axis xyz="0 0 1" />
    </joint>
	<joint name="jRightKnee_roty" type="revolute">
        <origin xyz="4.4e-05           0    -0.47078" rpy="0 0 0"/>
        <parent link="RightUpperLeg"/>
        <child link="RightLowerLeg_f1"/>
        <dynamics damping="0.1" friction="0.0"/>
        <limit effort="30" velocity="1.0" lower="-10.0" upper="10.0" />
        <axis xyz="0 1 0" />
    </joint>
	<joint name="jRightKnee_rotz" type="revolute">
        <origin xyz="0 0 0" rpy="0 0 0"/>
        <parent link="RightLowerLeg_f1"/>
        <child link="RightLowerLeg"/>
        <dynamics damping="0.1" friction="0.0"/>
        <limit effort="30" velocity="1.0" lower="-10.0" upper="10.0" />
        <axis xyz="0 0 1" />
    </joint>
	<joint name="jRightAnkle_rotx" type="revolute">
        <origin xyz="0.000156           0    -0.37257" rpy="0 0 0"/>
        <parent link="RightLowerLeg"/>
        <child link="RightFoot_f1"/>
        <dynamics damping="0.1" friction="0.0"/>
        <limit effort="30" velocity="1.0" lower="-10.0" upper="10.0" />
        <axis xyz="1 0 0" />
    </joint>
	<joint name="jRightAnkle_roty" type="revolute">
        <origin xyz="0 0 0" rpy="0 0 0"/>
        <parent link="RightFoot_f1"/>
        <child link="RightFoot_f2"/>
        <dynamics damping="0.1" friction="0.0"/>
        <limit effort="30" velocity="1.0" lower="-10.0" upper="10.0" />
        <axis xyz="0 1 0" />
    </joint>
    <joint name="jRightAnkle_rotz" type="revolute">
        <origin xyz="0 0 0" rpy="0 0 0"/>
        <parent link="RightFoot_f2"/>
        <child link="RightFoot"/>
        <dynamics damping="0.1" friction="0.0"/>
        <limit effort="30" velocity="1.0" lower="-10.0" upper="10.0" />
        <axis xyz="0 0 1" />
    </joint>
	<joint name="jRightBallFoot_roty" type="revolute">
        <origin xyz="0.14858           0   -0.065066" rpy="0 0 0"/>
        <parent link="RightFoot"/>
        <child link="RightToe"/>
        <dynamics damping="0.1" friction="0.0"/>
        <limit effort="30" velocity="1.0" lower="-10.0" upper="10.0" />
        <axis xyz="0 1 0" />
    </joint>
	<!--Chain from (20) to (23)-->
	<joint name="jLeftHip_rotx" type="revolute">
        <origin xyz="0.000147     0.08982    0.001442" rpy="0 0 0"/>
        <parent link="Pelvis"/>
        <child link="LeftUpperLeg_f1"/>
        <dynamics damping="0.1" friction="0.0"/>
        <limit effort="30" velocity="1.0" lower="-10.0" upper="10.0" />
        <axis xyz="1 0 0" />
    </joint>
	<joint name="jLeftHip_roty" type="revolute">
        <origin xyz="0 0 0" rpy="0 0 0"/>
        <parent link="LeftUpperLeg_f1"/>
        <child link="LeftUpperLeg_f2"/>
        <dynamics damping="0.1" friction="0.0"/>
        <limit effort="30" velocity="1.0" lower="-10.0" upper="10.0" />
        <axis xyz="0 1 0" />
    </joint>
    <joint name="jLeftHip_rotz" type="revolute">
        <origin xyz="0 0 0" rpy="0 0 0"/>
        <parent link="LeftUpperLeg_f2"/>
        <child link="LeftUpperLeg"/>
        <dynamics damping="0.1" friction="0.0"/>
        <limit effort="30" velocity="1.0" lower="-10.0" upper="10.0" />
        <axis xyz="0 0 1" />
    </joint>
	<joint name="jLeftKnee_roty" type="revolute">
        <origin xyz="4.4e-05           0    -0.47078" rpy="0 0 0"/>
        <parent link="LeftUpperLeg"/>
        <child link="LeftLowerLeg_f1"/>
        <dynamics damping="0.1" friction="0.0"/>
        <limit effort="30" velocity="1.0" lower="-10.0" upper="10.0" />
        <axis xyz="0 1 0" />
    </joint>
    <joint name="jLeftKnee_rotz" type="revolute">
        <origin xyz="0 0 0" rpy="0 0 0"/>
        <parent link="LeftLowerLeg_f1"/>
        <child link="LeftLowerLeg"/>
        <dynamics damping="0.1" friction="0.0"/>
        <limit effort="30" velocity="1.0" lower="-10.0" upper="10.0" />
        <axis xyz="0 0 1" />
    </joint>
	<joint name="jLeftAnkle_rotx" type="revolute">
        <origin xyz="0.000156           0    -0.37257" rpy="0 0 0"/>
        <parent link="LeftLowerLeg"/>
        <child link="LeftFoot_f1"/>
        <dynamics damping="0.1" friction="0.0"/>
        <limit effort="30" velocity="1.0" lower="-10.0" upper="10.0" />
        <axis xyz="1 0 0" />
    </joint>
	<joint name="jLeftAnkle_roty" type="revolute">
        <origin xyz="0 0 0" rpy="0 0 0"/>
        <parent link="LeftFoot_f1"/>
        <child link="LeftFoot_f2"/>
        <dynamics damping="0.1" friction="0.0"/>
        <limit effort="30" velocity="1.0" lower="-10.0" upper="10.0" />
        <axis xyz="0 1 0" />
    </joint>
    <joint name="jLeftAnkle_rotz" type="revolute">
        <origin xyz="0 0 0" rpy="0 0 0"/>
        <parent link="LeftFoot_f2"/>
        <child link="LeftFoot"/>
        <dynamics damping="0.1" friction="0.0"/>
        <limit effort="30" velocity="1.0" lower="-10.0" upper="10.0" />
        <axis xyz="0 0 1" />
    </joint>
	<joint name="jLeftBallFoot_roty" type="revolute">
        <origin xyz="0.14858           0   -0.065066" rpy="0 0 0"/>
        <parent link="LeftFoot"/>
        <child link="LeftToe"/>
        <dynamics damping="0.1" friction="0.0"/>
        <limit effort="30" velocity="1.0" lower="-10.0" upper="10.0" />
        <axis xyz="0 1 0" />
    </joint>

	<!-- Sensor  1-->
<sensor name="Pelvis_gyro" type="gyroscope">
<parent link="Pelvis"/>
<origin xyz="-0.062502 -2.1605e-05     0.10679" rpy="0.073038       1.175     -2.9918"/>
</sensor>
<sensor name="Pelvis_accelerometer" type="accelerometer">
<parent link="Pelvis"/>
<origin xyz="-0.062502 -2.1605e-05     0.10679" rpy="0.073038       1.175     -2.9918"/>
</sensor>
<!-- Sensor  2-->
<sensor name="T8_gyro" type="gyroscope">
<parent link="T8"/>
<origin xyz="0.12575 -1.7171e-07    0.069162" rpy="0.05586      1.1455   -0.093381"/>
</sensor>
<sensor name="T8_accelerometer" type="accelerometer">
<parent link="T8"/>
<origin xyz="0.12575 -1.7171e-07    0.069162" rpy="0.05586      1.1455   -0.093381"/>
</sensor>
<!-- Sensor  3-->
<sensor name="Head_gyro" type="gyroscope">
<parent link="Head"/>
<origin xyz="-0.067666 -2.0687e-07    0.074377" rpy="2.0295     0.15178     -1.3955"/>
</sensor>
<sensor name="Head_accelerometer" type="accelerometer">
<parent link="Head"/>
<origin xyz="-0.067666 -2.0687e-07    0.074377" rpy="2.0295     0.15178     -1.3955"/>
</sensor>
<!-- Sensor  4-->
<sensor name="RightShoulder_gyro" type="gyroscope">
<parent link="RightShoulder"/>
<origin xyz="-0.019617   -0.049042    -0.05885" rpy="1.2165    -0.29762     -1.4934"/>
</sensor>
<sensor name="RightShoulder_accelerometer" type="accelerometer">
<parent link="RightShoulder"/>
<origin xyz="-0.019617   -0.049042    -0.05885" rpy="1.2165    -0.29762     -1.4934"/>
</sensor>
<!-- Sensor  5-->
<sensor name="RightUpperArm_gyro" type="gyroscope">
<parent link="RightUpperArm"/>
<origin xyz="-0.01887   -0.094352     0.01887" rpy="0.034231   -0.080938     -1.6293"/>
</sensor>
<sensor name="RightUpperArm_accelerometer" type="accelerometer">
<parent link="RightUpperArm"/>
<origin xyz="-0.01887   -0.094352     0.01887" rpy="0.034231   -0.080938     -1.6293"/>
</sensor>
<!-- Sensor  6-->
<sensor name="RightForeArm_gyro" type="gyroscope">
<parent link="RightForeArm"/>
<origin xyz="0.0017409    -0.18998    0.018975" rpy="-0.64557   -0.032803     -1.2886"/>
</sensor>
<sensor name="RightForeArm_accelerometer" type="accelerometer">
<parent link="RightForeArm"/>
<origin xyz="0.0017409    -0.18998    0.018975" rpy="-0.64557   -0.032803     -1.2886"/>
</sensor>
<!-- Sensor  7-->
<sensor name="RightHand_gyro" type="gyroscope">
<parent link="RightHand"/>
<origin xyz="-3.6244e-08   -0.052468    0.019079" rpy="-0.44135   -0.084915     -1.4651"/>
</sensor>
<sensor name="RightHand_accelerometer" type="accelerometer">
<parent link="RightHand"/>
<origin xyz="-3.6244e-08   -0.052468    0.019079" rpy="-0.44135   -0.084915     -1.4651"/>
</sensor>
<!-- Sensor  8-->
<sensor name="LeftShoulder_gyro" type="gyroscope">
<parent link="LeftShoulder"/>
<origin xyz="-0.019617    0.049042    -0.05885" rpy="-1.1685    -0.30254      1.3128"/>
</sensor>
<sensor name="LeftShoulder_accelerometer" type="accelerometer">
<parent link="LeftShoulder"/>
<origin xyz="-0.019617    0.049042    -0.05885" rpy="-1.1685    -0.30254      1.3128"/>
</sensor>
<!-- Sensor  9-->
<sensor name="LeftUpperArm_gyro" type="gyroscope">
<parent link="LeftUpperArm"/>
<origin xyz="-0.01887    0.094352     0.01887" rpy="-0.21253      -0.119      1.5758"/>
</sensor>
<sensor name="LeftUpperArm_accelerometer" type="accelerometer">
<parent link="LeftUpperArm"/>
<origin xyz="-0.01887    0.094352     0.01887" rpy="-0.21253      -0.119      1.5758"/>
</sensor>
<!-- Sensor  10-->
<sensor name="LeftForeArm_gyro" type="gyroscope">
<parent link="LeftForeArm"/>
<origin xyz="0.001741     0.18998    0.018975" rpy="0.88559   -0.052367      1.2958"/>
</sensor>
<sensor name="LeftForeArm_accelerometer" type="accelerometer">
<parent link="LeftForeArm"/>
<origin xyz="0.001741     0.18998    0.018975" rpy="0.88559   -0.052367      1.2958"/>
</sensor>
<!-- Sensor  11-->
<sensor name="LeftHand_gyro" type="gyroscope">
<parent link="LeftHand"/>
<origin xyz="-2.9489e-08    0.052468    0.019079" rpy="0.63592      0.1106      1.2877"/>
</sensor>
<sensor name="LeftHand_accelerometer" type="accelerometer">
<parent link="LeftHand"/>
<origin xyz="-2.9489e-08    0.052468    0.019079" rpy="0.63592      0.1106      1.2877"/>
</sensor>
<!-- Sensor  12-->
<sensor name="RightUpperLeg_gyro" type="gyroscope">
<parent link="RightUpperLeg"/>
<origin xyz="0.013598   -0.047873    -0.28284" rpy="-2.7346      1.4828      1.7867"/>
</sensor>
<sensor name="RightUpperLeg_accelerometer" type="accelerometer">
<parent link="RightUpperLeg"/>
<origin xyz="0.013598   -0.047873    -0.28284" rpy="-2.7346      1.4828      1.7867"/>
</sensor>
<!-- Sensor  13-->
<sensor name="RightLowerLeg_gyro" type="gyroscope">
<parent link="RightLowerLeg"/>
<origin xyz="0.028446   0.0065111    -0.12238" rpy="-0.72219      1.5504     -1.0017"/>
</sensor>
<sensor name="RightLowerLeg_accelerometer" type="accelerometer">
<parent link="RightLowerLeg"/>
<origin xyz="0.028446   0.0065111    -0.12238" rpy="-0.72219      1.5504     -1.0017"/>
</sensor>
<!-- Sensor  14-->
<sensor name="RightFoot_gyro" type="gyroscope">
<parent link="RightFoot"/>
<origin xyz="0.085688    0.001426   -0.012097" rpy="0.29509     0.47835    -0.44578"/>
</sensor>
<sensor name="RightFoot_accelerometer" type="accelerometer">
<parent link="RightFoot"/>
<origin xyz="0.085688    0.001426   -0.012097" rpy="0.29509     0.47835    -0.44578"/>
</sensor>
<!-- Sensor  15-->
<sensor name="LeftUpperLeg_gyro" type="gyroscope">
<parent link="LeftUpperLeg"/>
<origin xyz="0.013598    0.047874    -0.28284" rpy="2.2144      1.3513     -2.7095"/>
</sensor>
<sensor name="LeftUpperLeg_accelerometer" type="accelerometer">
<parent link="LeftUpperLeg"/>
<origin xyz="0.013598    0.047874    -0.28284" rpy="2.2144      1.3513     -2.7095"/>
</sensor>
<!-- Sensor  16-->
<sensor name="LeftLowerLeg_gyro" type="gyroscope">
<parent link="LeftLowerLeg"/>
<origin xyz="0.028446  -0.0065112    -0.12238" rpy="2.015      1.4009      2.2161"/>
</sensor>
<sensor name="LeftLowerLeg_accelerometer" type="accelerometer">
<parent link="LeftLowerLeg"/>
<origin xyz="0.028446  -0.0065112    -0.12238" rpy="2.015      1.4009      2.2161"/>
</sensor>
<!-- Sensor  17-->
<sensor name="LeftFoot_gyro" type="gyroscope">
<parent link="LeftFoot"/>
<origin xyz="0.085688   -0.001426   -0.012097" rpy="0.12832     0.56786     0.95218"/>
</sensor>
<sensor name="LeftFoot_accelerometer" type="accelerometer">
<parent link="LeftFoot"/>
<origin xyz="0.085688   -0.001426   -0.012097" rpy="0.12832     0.56786     0.95218"/>
</sensor>


</robot>
